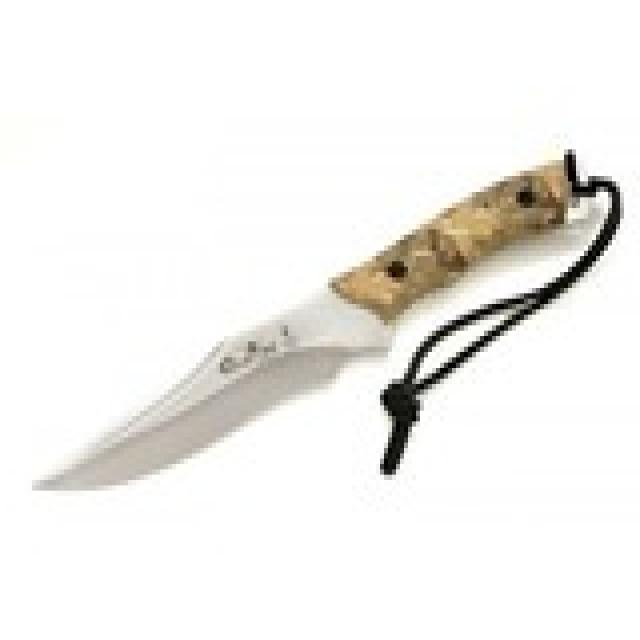Knife: (21, 146, 602, 522)
